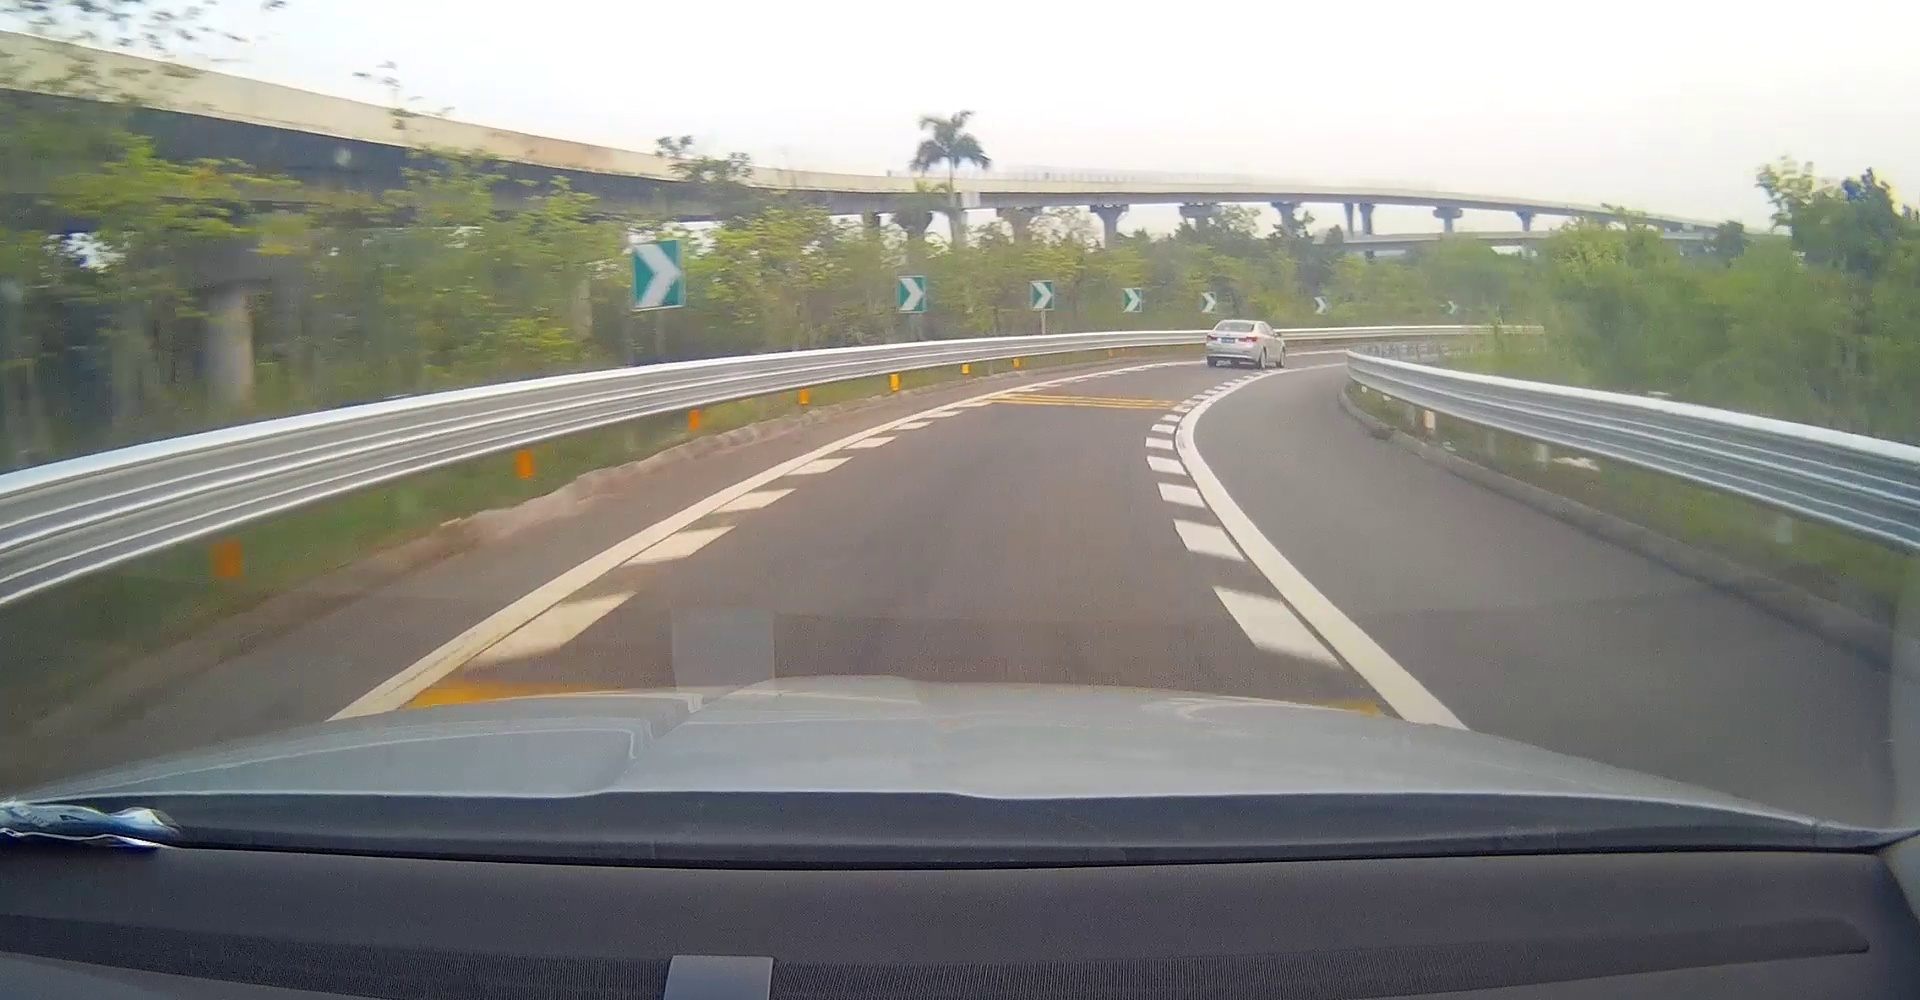L_light: (1206, 335, 1218, 340)
R_light: (1239, 338, 1256, 341)
T_light: (1233, 321, 1239, 324)
day-no: (1206, 319, 1258, 369)
